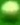white: (0, 0, 20, 25)
